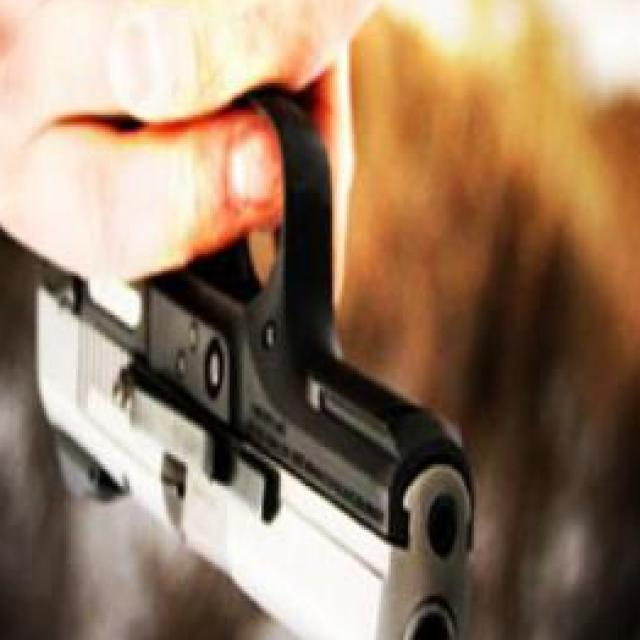pistol: (32, 103, 474, 640)
